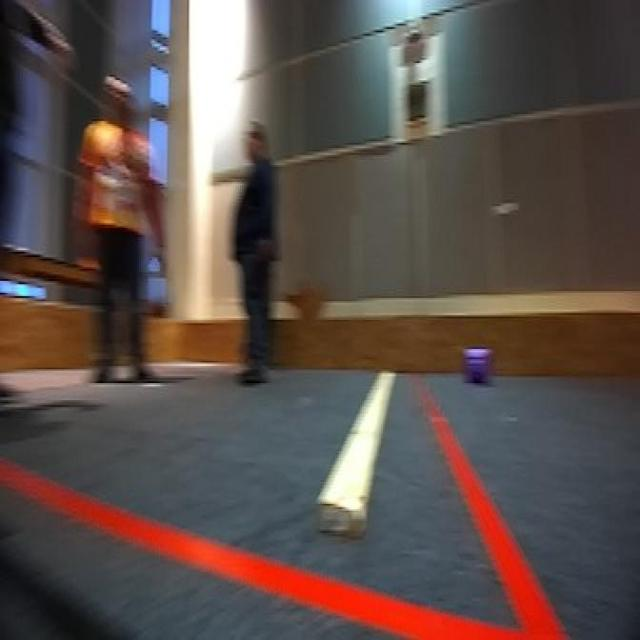frc_cube: (464, 346, 490, 384)
